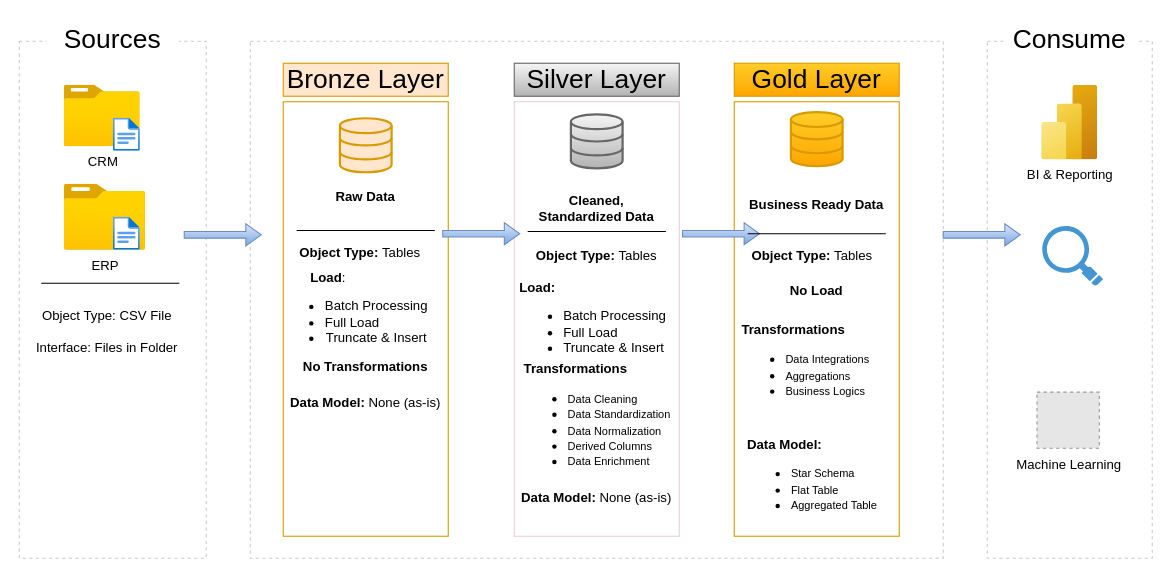
Some shapes in this 1172 by 578 pixel diagram are drawn without their labels. Grey dashed boxes stand in for pictures. Here are the shapes that lost their labels. From the top down, the centre of each, then its label:
[596,35]: Data Warehouse
[1072,255]: Ad-Hoc SQL Queries
